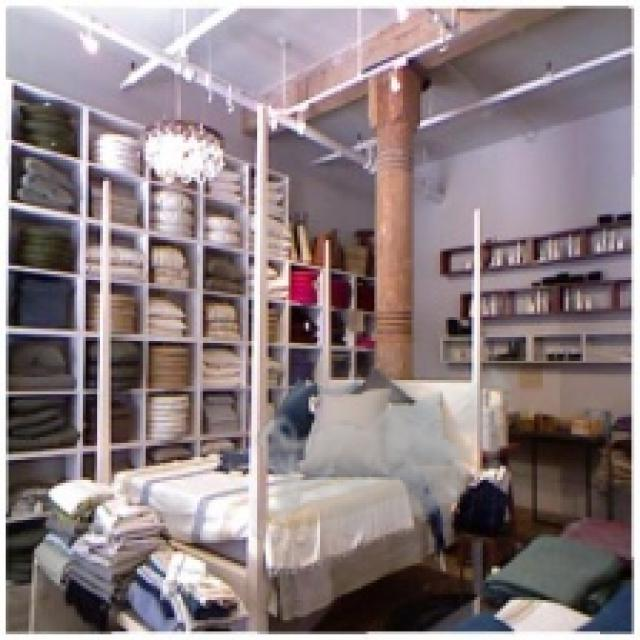smoke: (251, 343, 520, 551)
